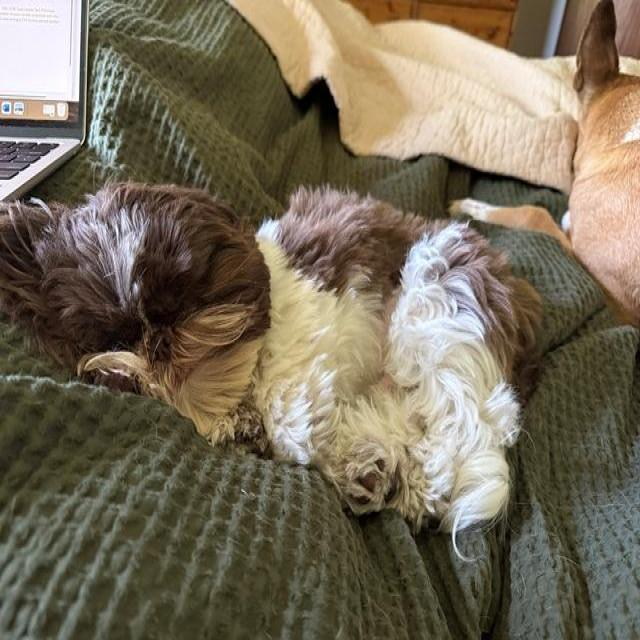shih_tzu_dog: (47, 167, 271, 439)
